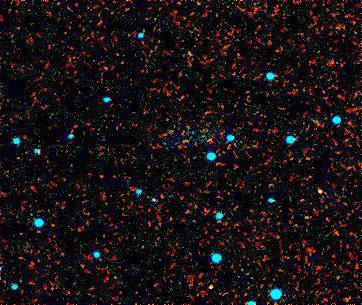star: (306, 175, 336, 205)
